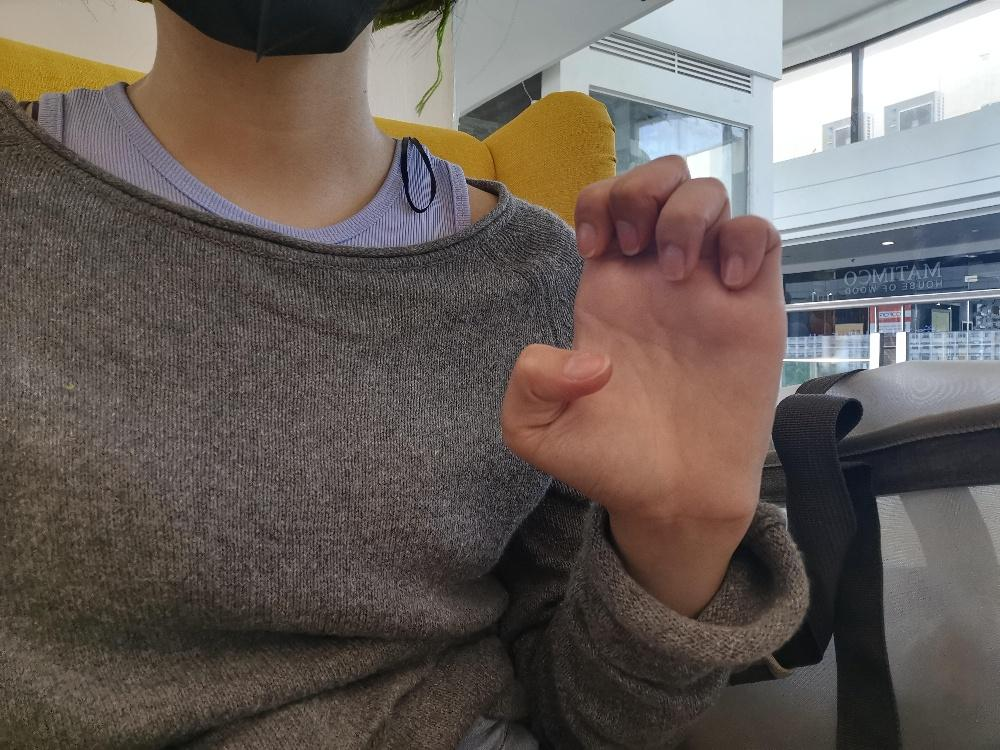e: (497, 150, 788, 523)
